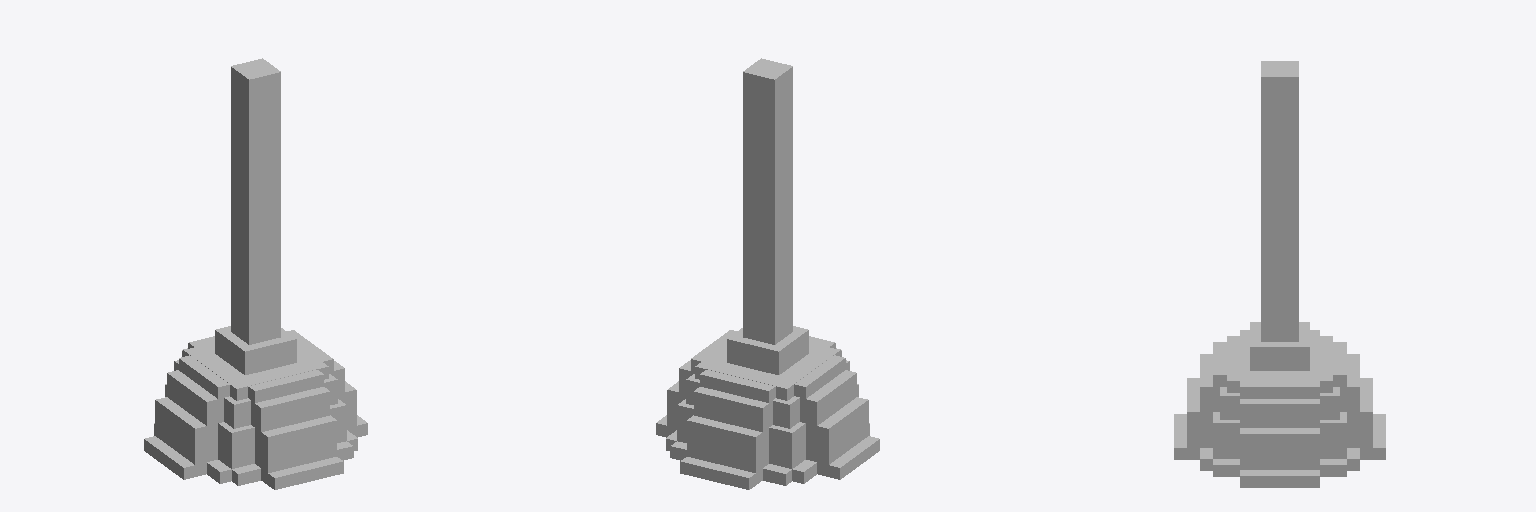
File: 1494_plunger.obj
3 views of the same model, side by side, from view 1: azimuth 30°, elevation 25°; view 2: azimuth 150°, elevation 25°; view 3: azimuth 270°, elevation 25° (orthographic).
Visible parts, largest first — view 1: holder, head5, head7, head22, head17, head11, head9, head1, head18, 2, head21, 4 (+2 smaller); view 2: holder, head6, head7, head22, head17, head12, head9, head4, head19, 1, head21, 4 (+2 smaller); view 3: holder, head8, head17, head10, head22, head5, head6, head20, 3, head2, head3, head11 (+7 smaller).
Part boxes in pixels (left/top/right/bottom): holder: left=231, top=58, right=280, bottom=344; head5: left=255, top=415, right=336, bottom=484; head7: left=155, top=397, right=217, bottom=476; head22: left=215, top=326, right=296, bottom=374; head17: left=183, top=342, right=328, bottom=400; head11: left=251, top=387, right=329, bottom=431; head9: left=167, top=370, right=223, bottom=425; head1: left=218, top=422, right=254, bottom=468; head18: left=248, top=370, right=323, bottom=402; 2: left=268, top=457, right=343, bottom=489; head21: left=179, top=355, right=229, bottom=410; 4: left=144, top=436, right=194, bottom=479; holder: left=743, top=58, right=792, bottom=344; head6: left=687, top=415, right=768, bottom=484; head7: left=806, top=397, right=868, bottom=476; head22: left=727, top=326, right=808, bottom=374; head17: left=695, top=342, right=840, bottom=400; head12: left=694, top=387, right=772, bottom=431; head9: left=800, top=370, right=856, bottom=425; head4: left=769, top=422, right=805, bottom=468; head19: left=700, top=370, right=775, bottom=402; 1: left=680, top=457, right=755, bottom=489; head21: left=794, top=355, right=845, bottom=398; 4: left=829, top=436, right=879, bottom=479; holder: left=1261, top=61, right=1298, bottom=341; head8: left=1240, top=428, right=1319, bottom=469; head17: left=1227, top=336, right=1332, bottom=392; head10: left=1240, top=399, right=1319, bottom=427; head22: left=1250, top=322, right=1309, bottom=370; head5: left=1187, top=378, right=1212, bottom=459; head6: left=1347, top=378, right=1372, bottom=459; head20: left=1240, top=381, right=1319, bottom=398; 3: left=1240, top=470, right=1319, bottom=487; head2: left=1213, top=412, right=1239, bottom=458; head3: left=1320, top=412, right=1346, bottom=458; head11: left=1200, top=354, right=1219, bottom=411.
Size of the model in its own units: 0.5 by 0.9688 by 0.5.